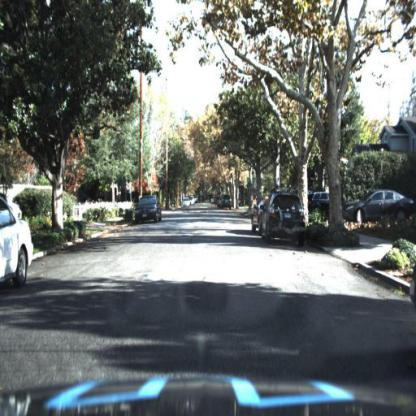car: (342, 181, 415, 231), (1, 196, 35, 292), (344, 189, 416, 227), (264, 194, 304, 239), (305, 184, 333, 218), (307, 186, 341, 212), (137, 195, 163, 222), (250, 198, 260, 235), (220, 196, 232, 212)
